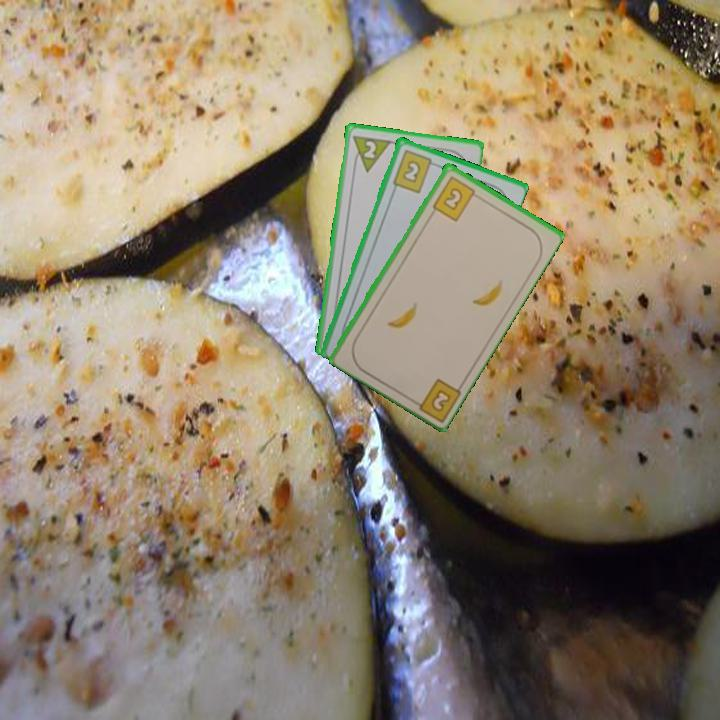2b: (428, 172, 482, 224), (407, 374, 463, 423), (389, 146, 440, 195)
2p: (348, 131, 393, 174)
